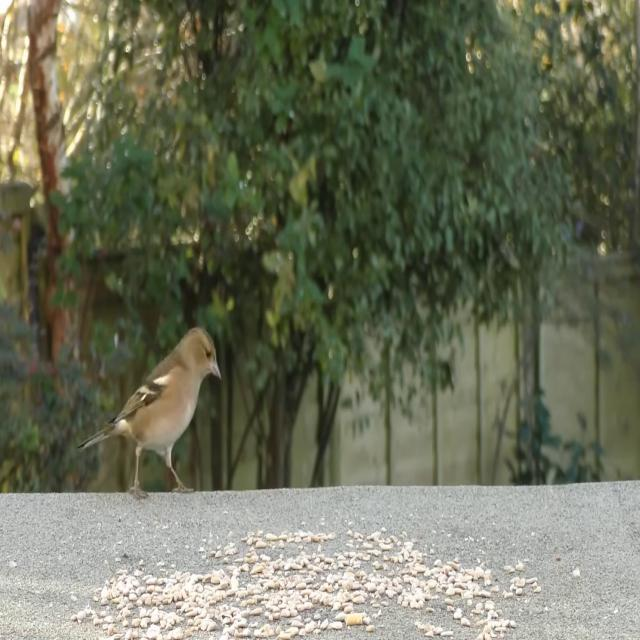beak: (206, 357, 222, 382)
bird: (82, 322, 224, 504)
